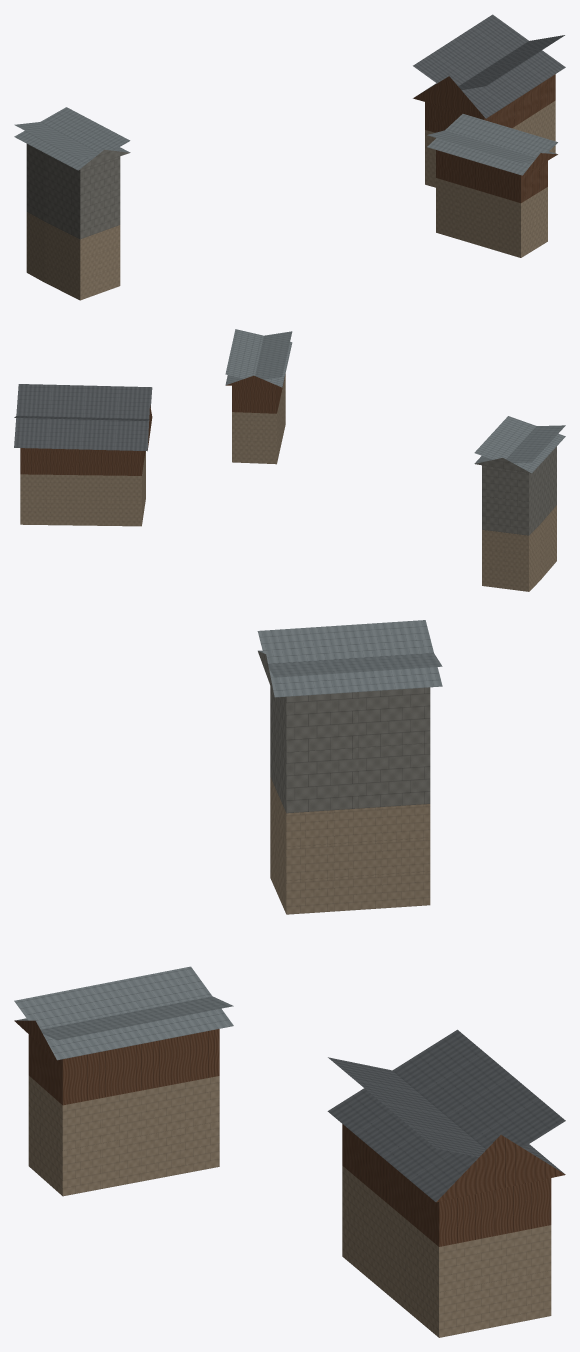
File: bld_c22_31_375.gltf
The picture shows the model from 3 angles, top to bottom: view 1: azimuth 30°, elevation 25°; view 2: azimuth 150°, elevation 25°; view 3: azimuth 270°, elevation 25°; orthographic projection. The views are drawn at different scales.
Parts seen in each view (by area): view 1: bld_c22_31_375; view 2: bld_c22_31_375; view 3: bld_c22_31_375.
Part boxes in pixels (box(x1,y1,x2,y2)): bld_c22_31_375: box(14, 14, 565, 300); bld_c22_31_375: box(14, 329, 565, 591); bld_c22_31_375: box(14, 620, 565, 1337).
Size of the model in its own units: 48.49 by 13.9 by 25.17.
Materials: 7 (7 with a texture image).
